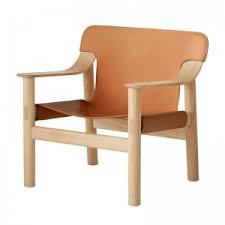chair: (13, 10, 203, 215)
